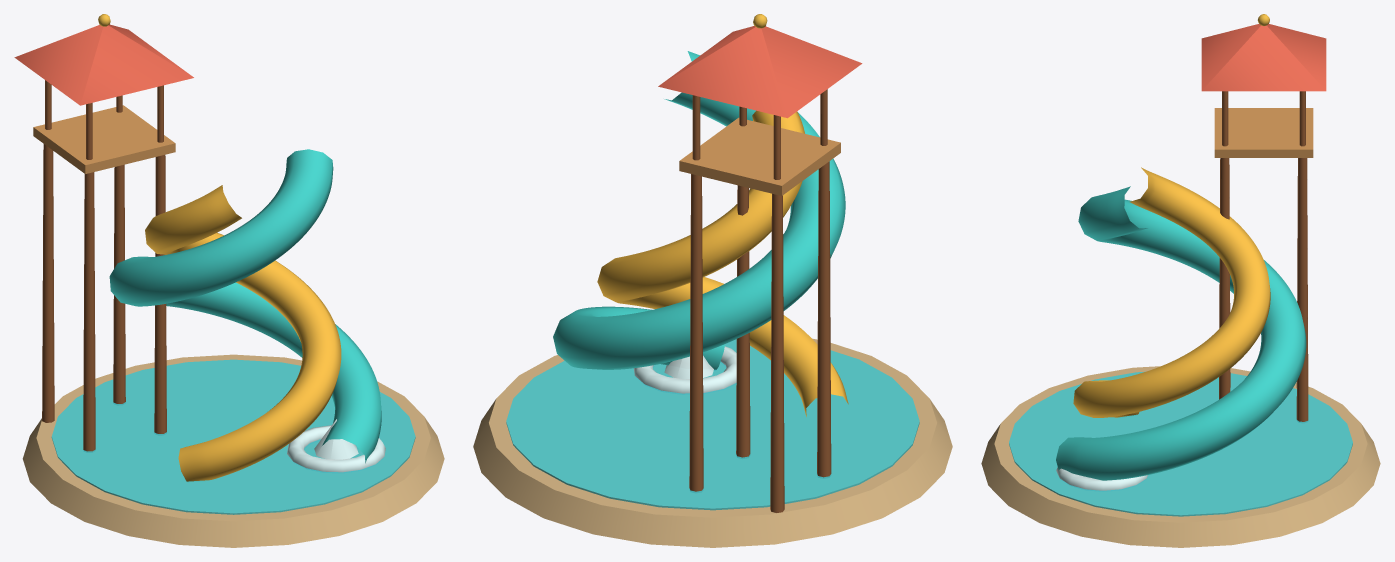
File: water-slide.glb
3 renders of one model, left to right at view 1: azimuth 30°, elevation 25°; view 2: azimuth 150°, elevation 25°; view 3: azimuth 270°, elevation 25°, orthographic. The views are drawn at different scales.
Parts seen in each view (by area): view 1: Mesh_water, Mesh_turquoise, Mesh_sandStone, Mesh_mango, Mesh_wood, Mesh_coral, Mesh_lightWood, Mesh_waterFoam; view 2: Mesh_water, Mesh_sandStone, Mesh_turquoise, Mesh_wood, Mesh_mango, Mesh_coral, Mesh_lightWood, Mesh_waterFoam; view 3: Mesh_water, Mesh_turquoise, Mesh_sandStone, Mesh_mango, Mesh_coral, Mesh_wood, Mesh_lightWood, Mesh_waterFoam.
Part boxes in pixels (x1,y1,x2,y2): Mesh_water: (51, 359, 415, 514); Mesh_turquoise: (109, 149, 381, 463); Mesh_sandStone: (22, 354, 444, 547); Mesh_mango: (145, 185, 341, 481); Mesh_wood: (42, 80, 166, 451); Mesh_coral: (14, 24, 193, 105); Mesh_lightWood: (33, 105, 175, 173); Mesh_waterFoam: (287, 419, 385, 472); Mesh_water: (506, 339, 919, 510); Mesh_sandStone: (473, 338, 952, 547); Mesh_turquoise: (553, 51, 845, 369); Mesh_wood: (689, 89, 831, 512); Mesh_mango: (597, 110, 848, 416); Mesh_coral: (658, 26, 862, 118); Mesh_lightWood: (679, 117, 840, 195); Mesh_waterFoam: (633, 346, 736, 393); Mesh_water: (1009, 371, 1352, 516); Mesh_turquoise: (1056, 186, 1306, 480); Mesh_sandStone: (981, 366, 1380, 547); Mesh_mango: (1073, 167, 1270, 417); Mesh_coral: (1201, 24, 1326, 91); Mesh_wood: (1219, 91, 1308, 421); Mesh_lightWood: (1214, 108, 1313, 157); Mesh_waterFoam: (1056, 467, 1147, 490).
Bounding box in the file's own units: 7.7 × 8.72 × 7.7.
